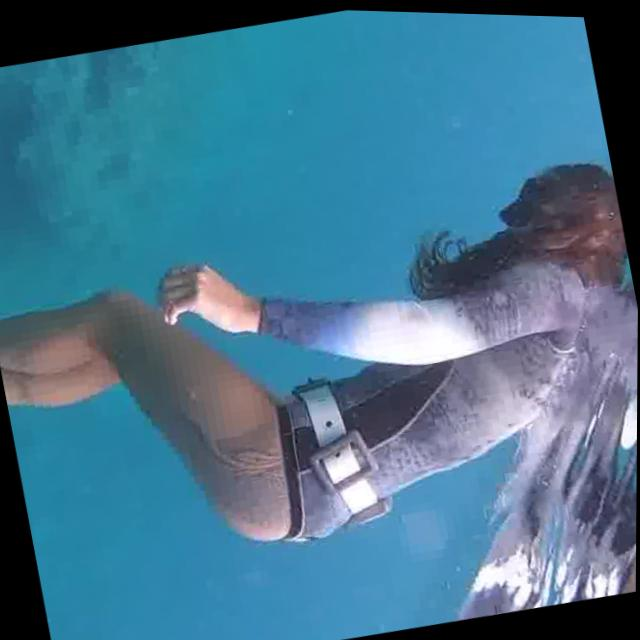human: (0, 127, 639, 609)
